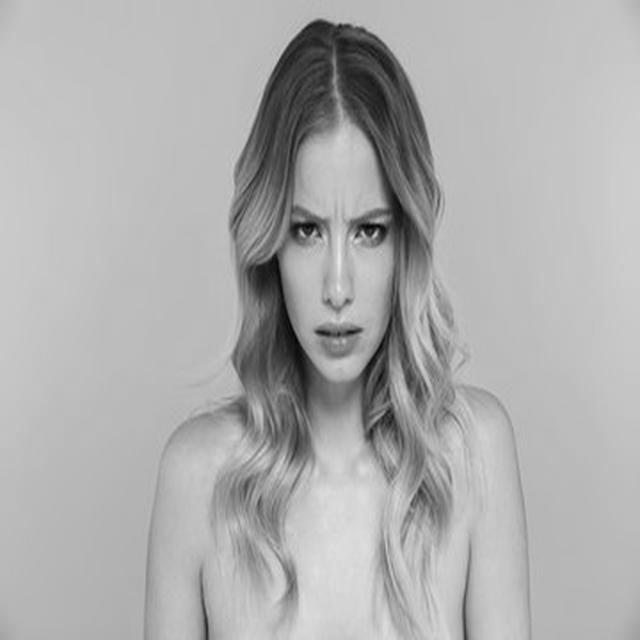Angry: (277, 129, 399, 382)
